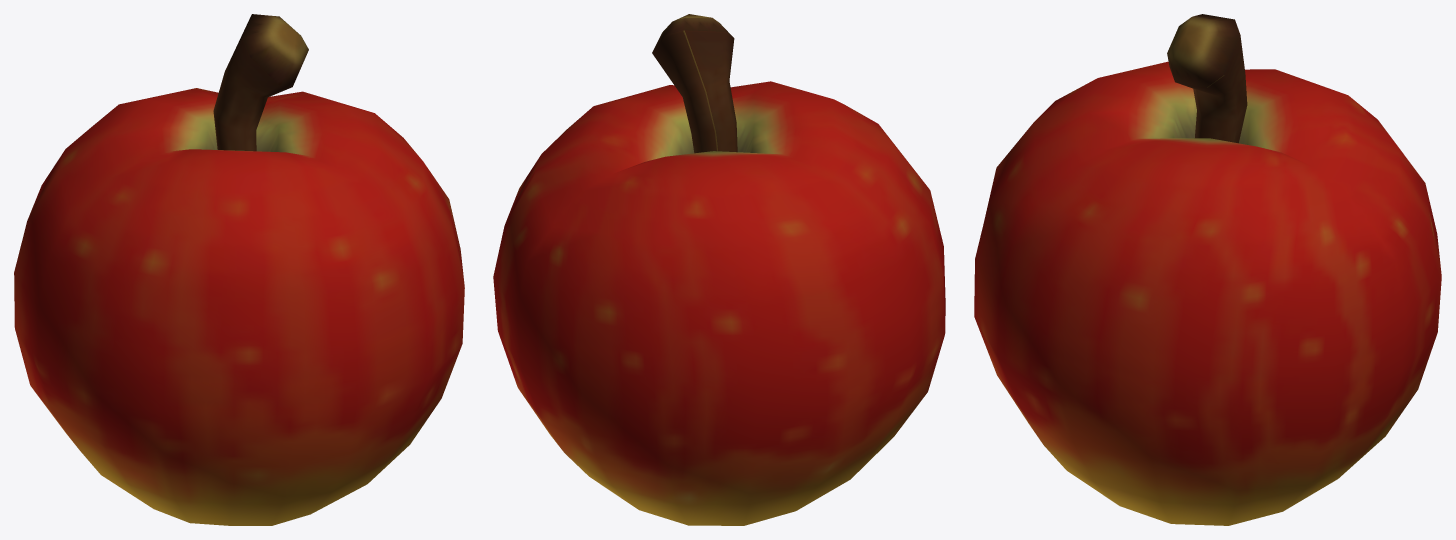
The model's file is Apple.obj.
3 renders of one model, left to right at view 1: azimuth 30°, elevation 25°; view 2: azimuth 150°, elevation 25°; view 3: azimuth 270°, elevation 25°, orthographic. The views are drawn at different scales.
Parts seen in each view (by area): view 1: body_low__mPltFruitApple; view 2: body_low__mPltFruitApple; view 3: body_low__mPltFruitApple.
Boxes of the visible parts, <box> form: body_low__mPltFruitApple: <box>14,14,464,525</box>; body_low__mPltFruitApple: <box>493,14,945,525</box>; body_low__mPltFruitApple: <box>974,14,1441,525</box>.
Size of the model in its own units: 10.36 by 11.67 by 10.36.
